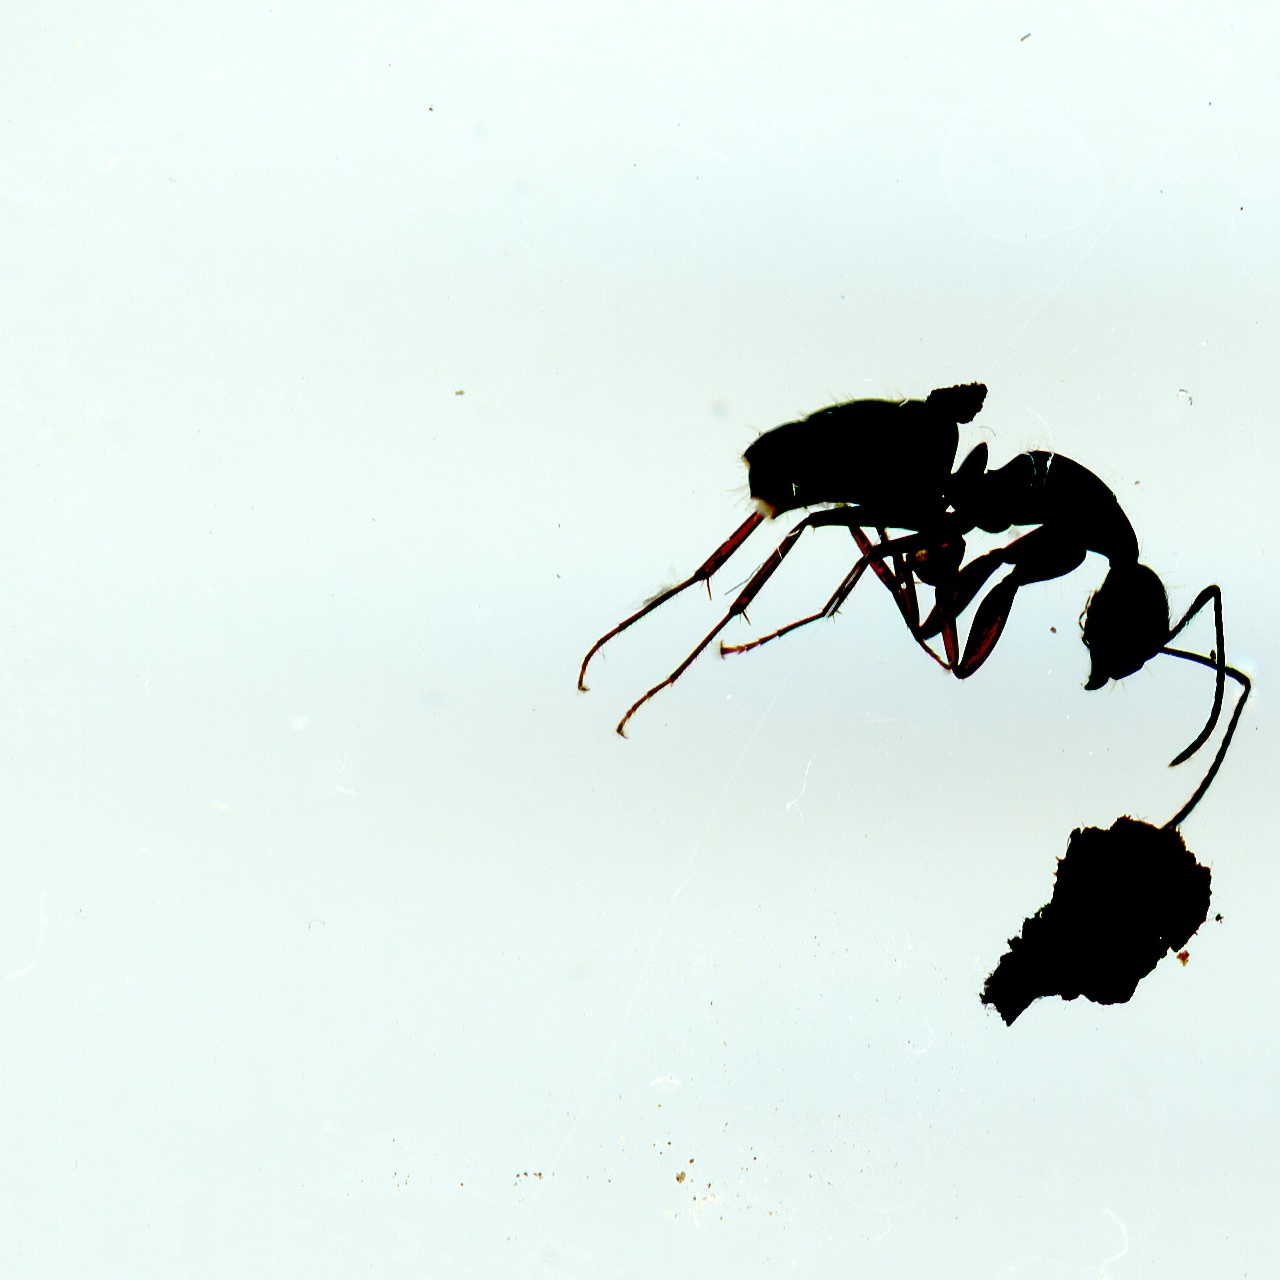arthropod: (568, 367, 1261, 829)
